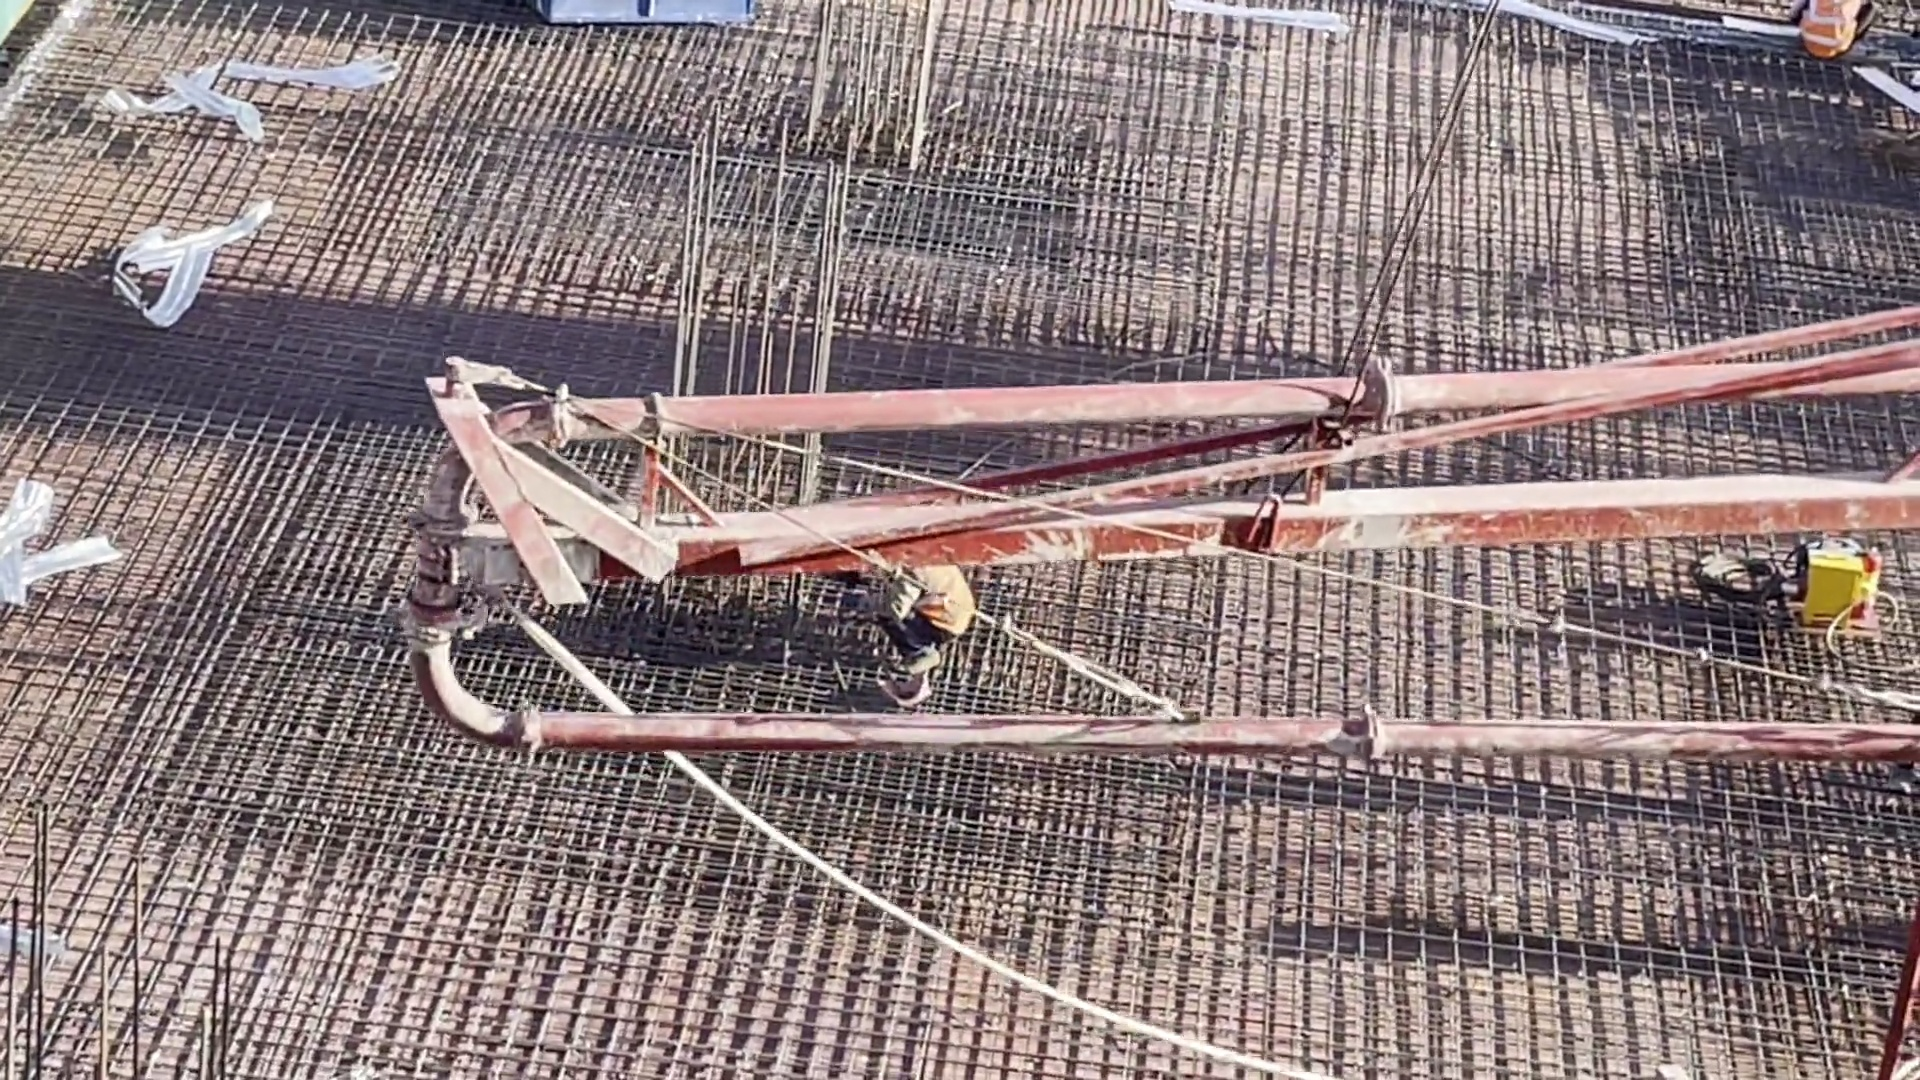hopper: (559, 1, 755, 41)
person: (858, 561, 973, 701), (1788, 1, 1872, 59)
vest: (892, 556, 969, 647), (1798, 1, 1859, 59)
